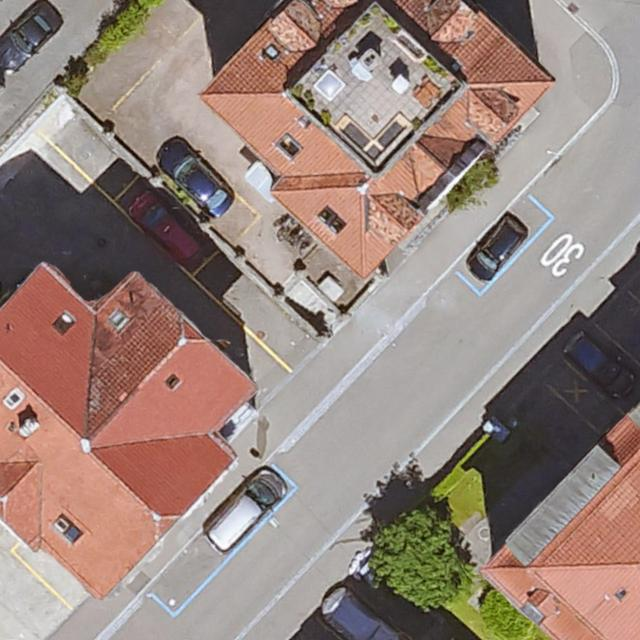tree: (373, 512, 471, 606)
